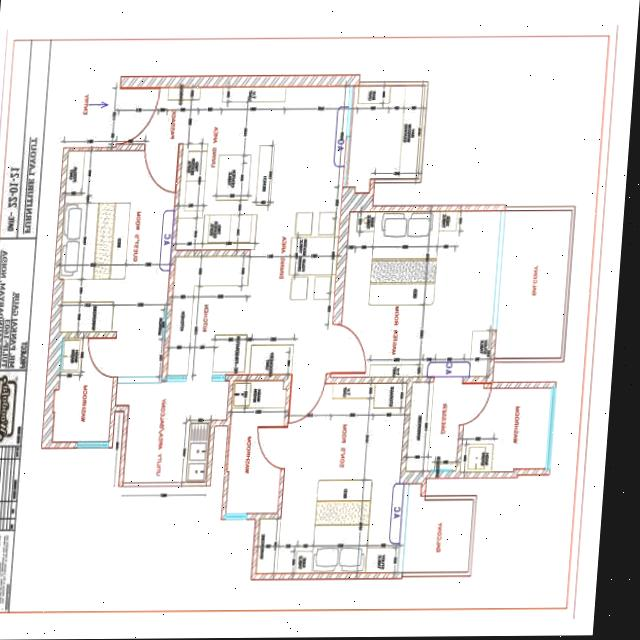room: (336, 202, 499, 389), (253, 382, 406, 574), (112, 84, 285, 250), (55, 141, 176, 377), (495, 207, 570, 364), (117, 383, 228, 483), (167, 250, 251, 378), (266, 190, 340, 325), (224, 377, 286, 517), (347, 80, 422, 185), (459, 385, 552, 467), (54, 336, 115, 445), (400, 496, 472, 579), (406, 379, 461, 474)
